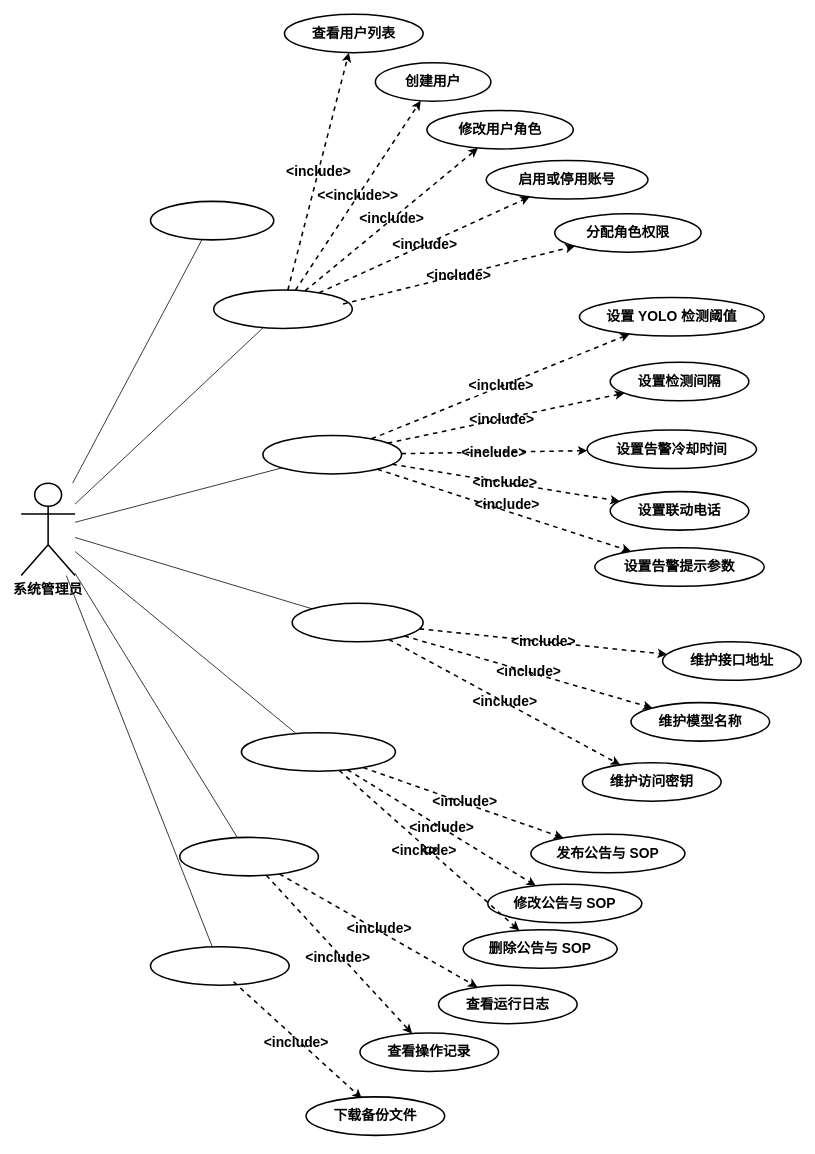
Image size: 815x1154. Some labels were removed from this diagram. The shapes that lost their labels are listed below. From the top down, each one's centre as x and y in pixels, then its label:
the point at 211,220: 用户登录
the point at 283,309: 管理用户信息
the point at 332,454: 配置系统参数
the point at 357,622: 配置 AI 接口
the point at 318,752: 管理公告与 SOP
the point at 249,856: 查看系统日志
the point at 219,966: 执行数据备份
